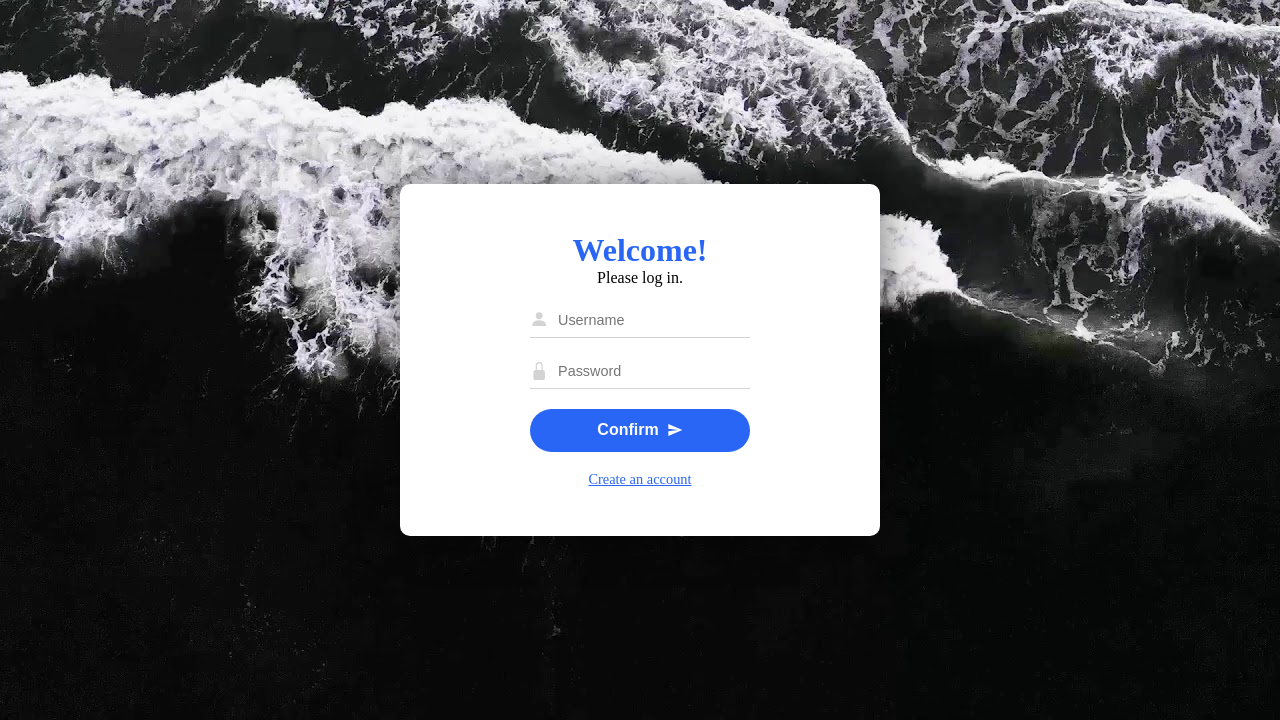
Test case: LoginView › should correctly render incorrect password error
The image size is (1280, 720).
Type "Anything" into the field with test id "login-input" at (651, 320), box [552,306,750,333]
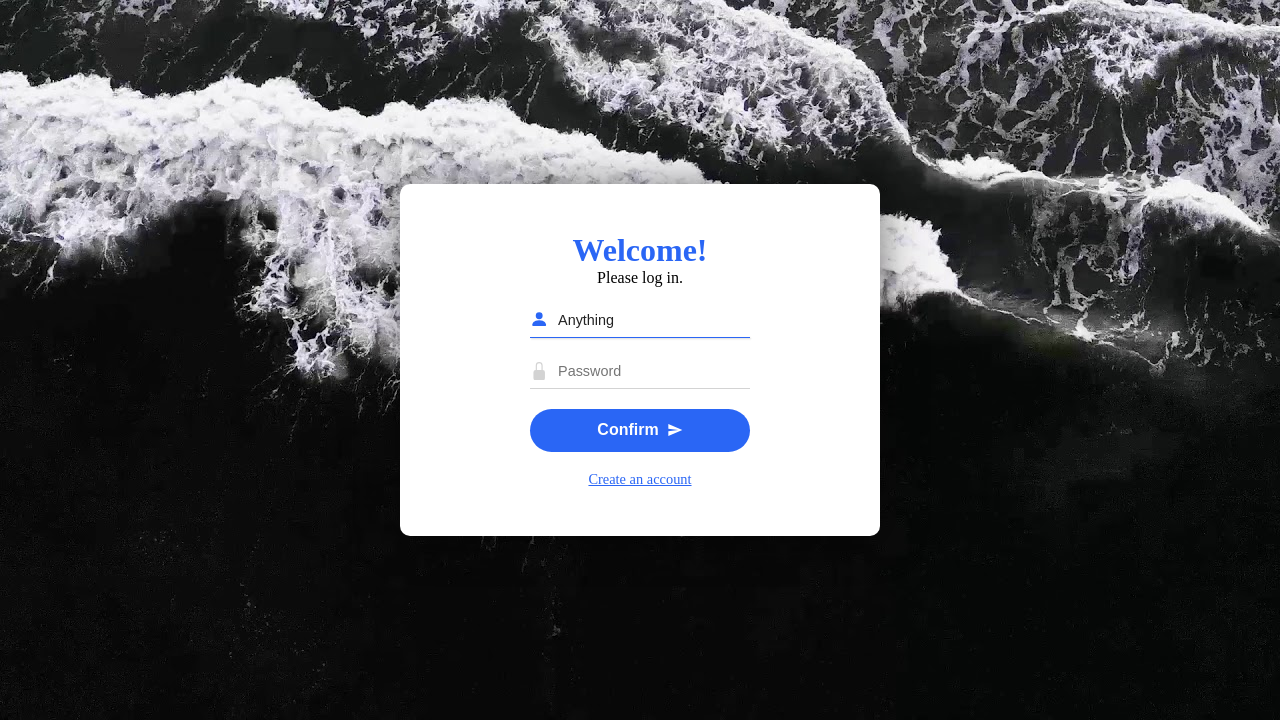
Type "Anything" into the password field with test id "password-input" at (651, 371), box [552,357,750,385]
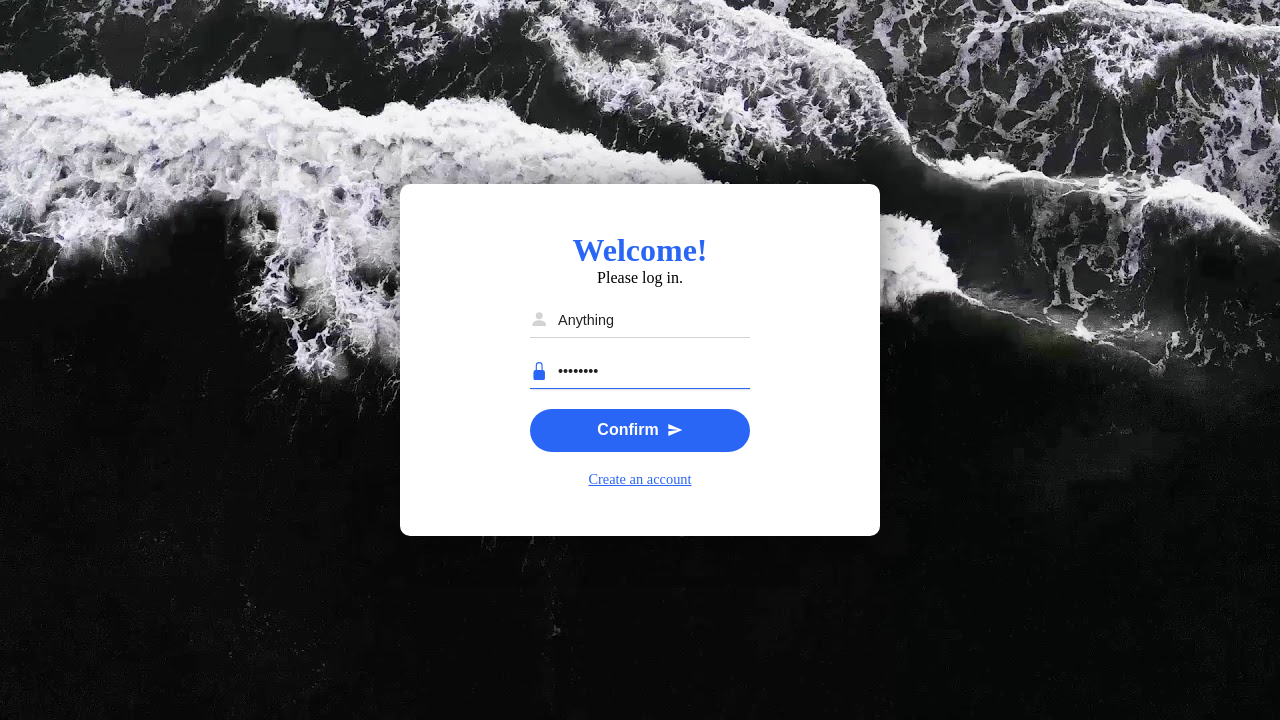
Click the button with test id "confirm-button" at (640, 430), box [530,409,750,452]
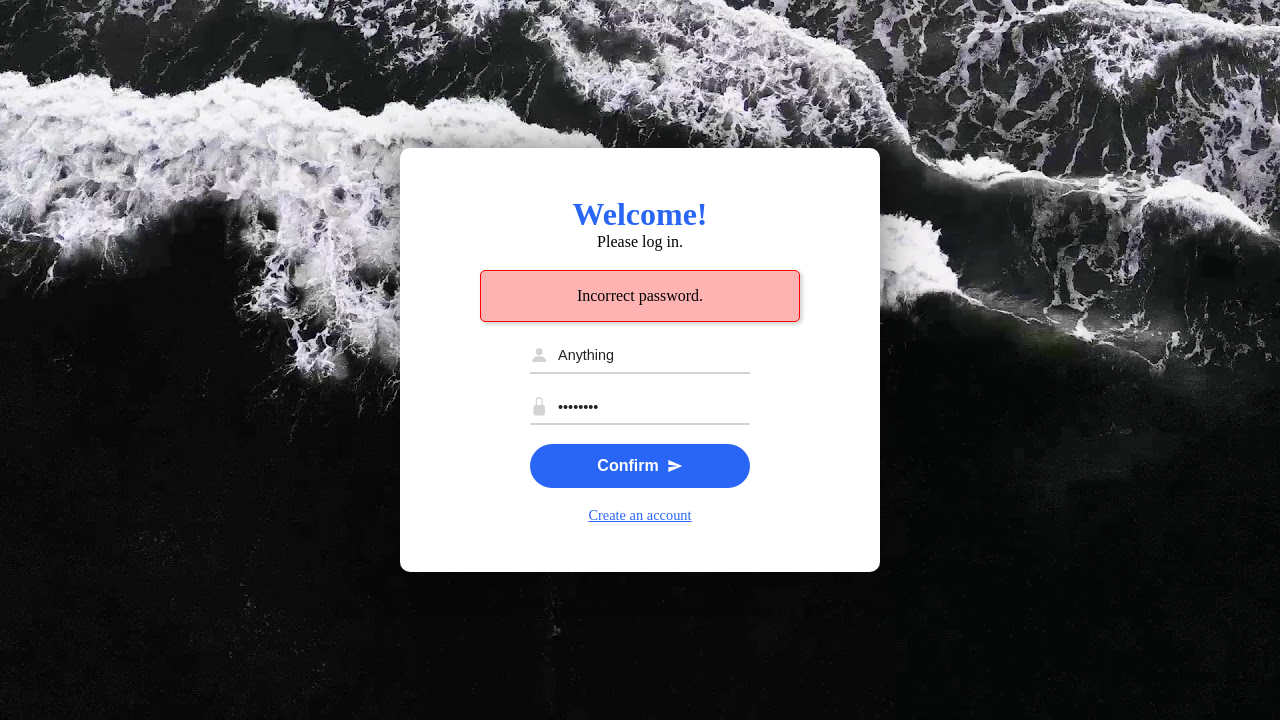
Now the text "Incorrect password." is shown, box [480,270,800,322]
